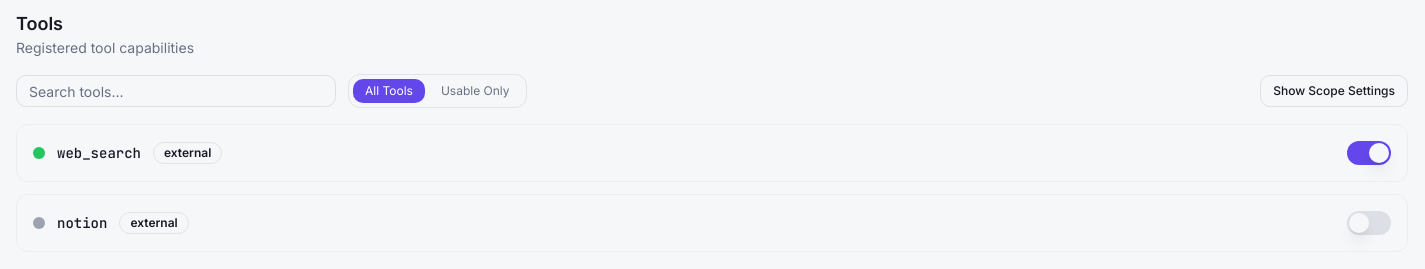
it: UX-M8: Tools All/Usable toggle › filters to usable-only tools (healthy + credentials) when toggled
The width and height of the screenshot is (1425, 269).
Expected: the text "web_search" is shown, [57,143,141,163]
What coordinates should you click on to do the following:
click the button with test id "filter-usable"
I would click on:
 (475, 91)
Its box is [429,79,522,103].
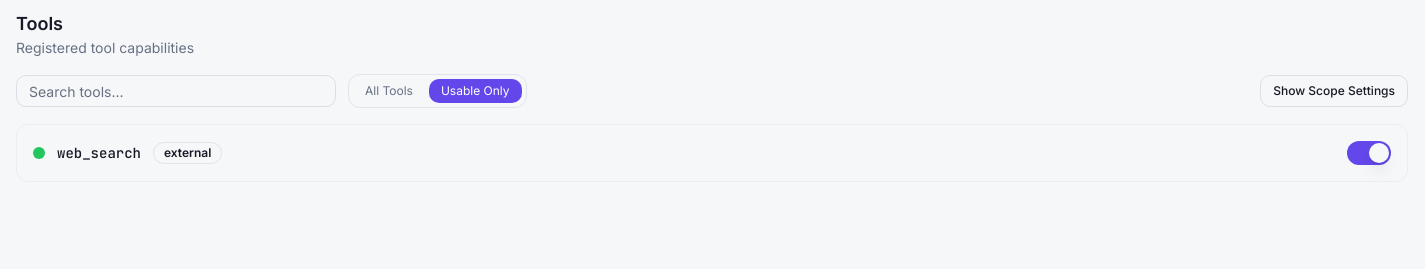
Expected: the text "web_search" is shown, [57,143,141,163]
Expected: the text "notion" is gone
